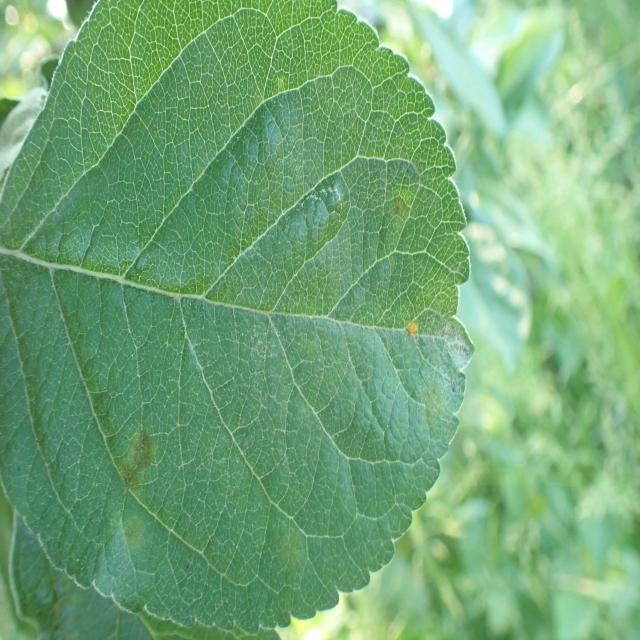Rust: (392, 288, 426, 362)
scab: (115, 411, 162, 575)
